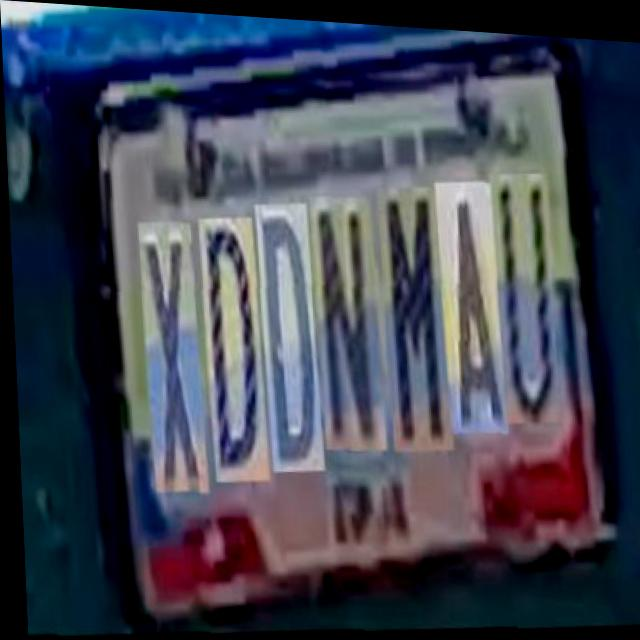a: (431, 178, 502, 435)
d: (193, 214, 263, 484), (250, 200, 318, 475)
m: (372, 183, 448, 453)
n: (304, 193, 380, 454)
u: (484, 168, 555, 424)
x: (133, 220, 201, 496)
